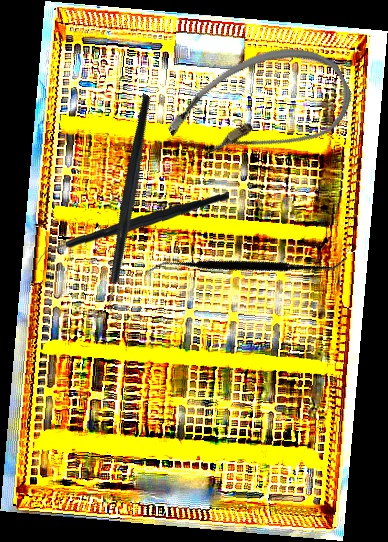Cannula: (156, 24, 363, 196)
Chopper: (38, 93, 225, 323), (36, 182, 230, 275)
Spatula Surgical: (147, 175, 349, 354)
